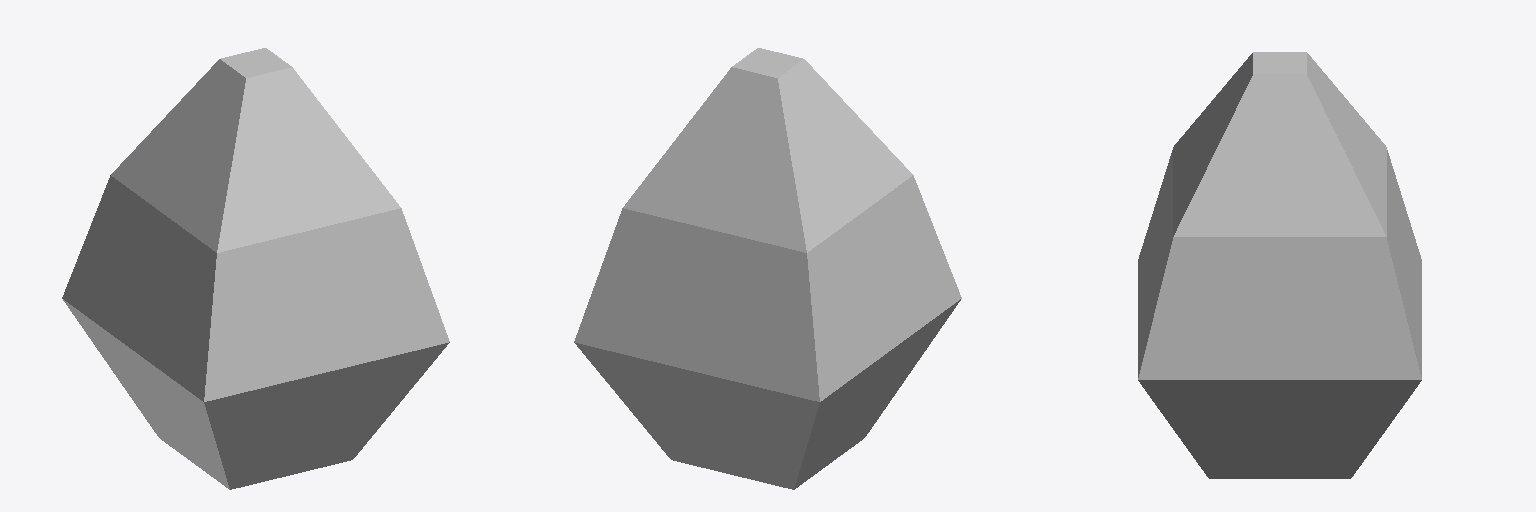
Rendered from Common.obj.
3 views of the same model, side by side, from view 1: azimuth 30°, elevation 25°; view 2: azimuth 150°, elevation 25°; view 3: azimuth 270°, elevation 25° (orthographic).
Parts seen in each view (by area): view 1: Cube_Cube.001; view 2: Cube_Cube.001; view 3: Cube_Cube.001.
Part boxes in pixels (bbox=[...]): Cube_Cube.001: bbox=[62, 48, 449, 489]; Cube_Cube.001: bbox=[574, 48, 961, 489]; Cube_Cube.001: bbox=[1138, 52, 1421, 478].
Bounding box in the file's own units: 1.33 × 2 × 1.33.